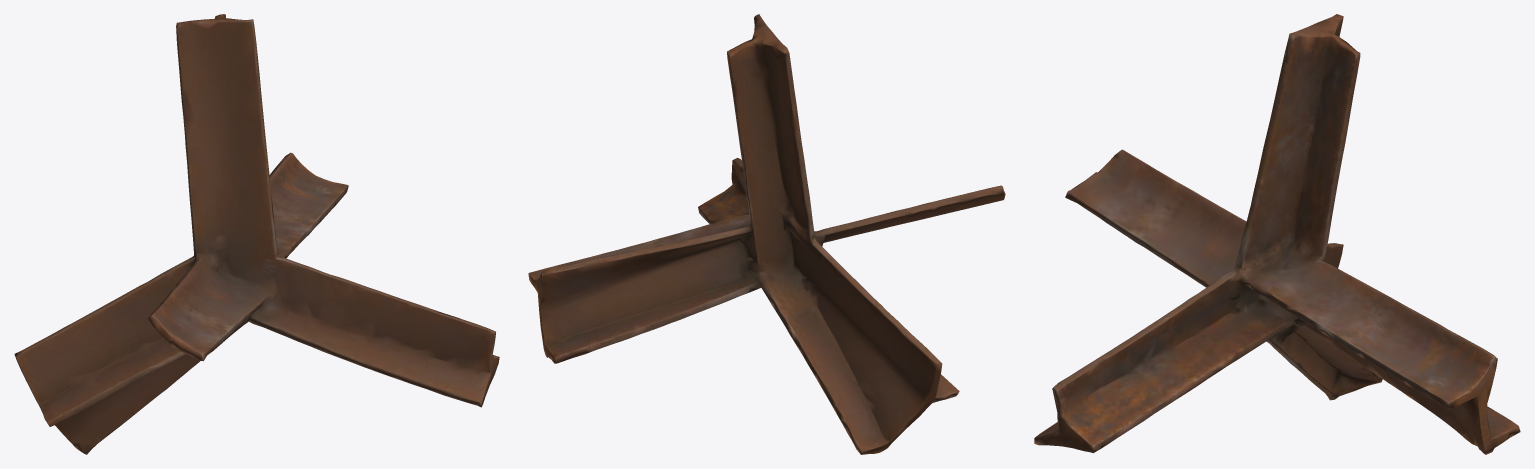
File: prop_hedgehog.glb
3 views of the same model, side by side, from view 1: azimuth 30°, elevation 25°; view 2: azimuth 150°, elevation 25°; view 3: azimuth 270°, elevation 25° (orthographic). The views are drawn at different scales.
Visible parts, largest first — view 1: tripo_node_3b868287-c2a3-4242-8f40-903fed0c8316; view 2: tripo_node_3b868287-c2a3-4242-8f40-903fed0c8316; view 3: tripo_node_3b868287-c2a3-4242-8f40-903fed0c8316.
Boxes of the visible parts, x1,y1,x2,y2 form: tripo_node_3b868287-c2a3-4242-8f40-903fed0c8316: [14, 14, 499, 454]; tripo_node_3b868287-c2a3-4242-8f40-903fed0c8316: [528, 14, 1005, 454]; tripo_node_3b868287-c2a3-4242-8f40-903fed0c8316: [1034, 14, 1520, 454].
Size of the model in its own units: 0.977 by 1 by 0.9924.
Materials: 1 (1 with a texture image).
